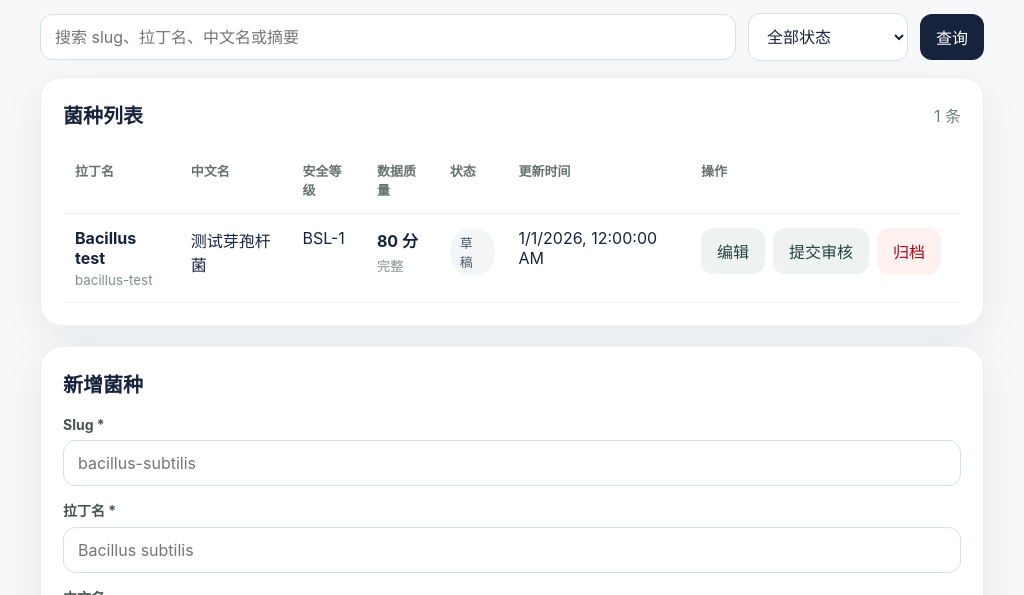
Test case: SpeciesManagement › 编辑菌种时加载并保存全部关联数据
Expected: the text "80 分" is shown, [377, 231, 418, 251]
Expected: the text "完整" is shown, [377, 258, 404, 274]
Step 1. Click the button "编辑" → (733, 251), box [701, 228, 765, 274]
(page scrolled)
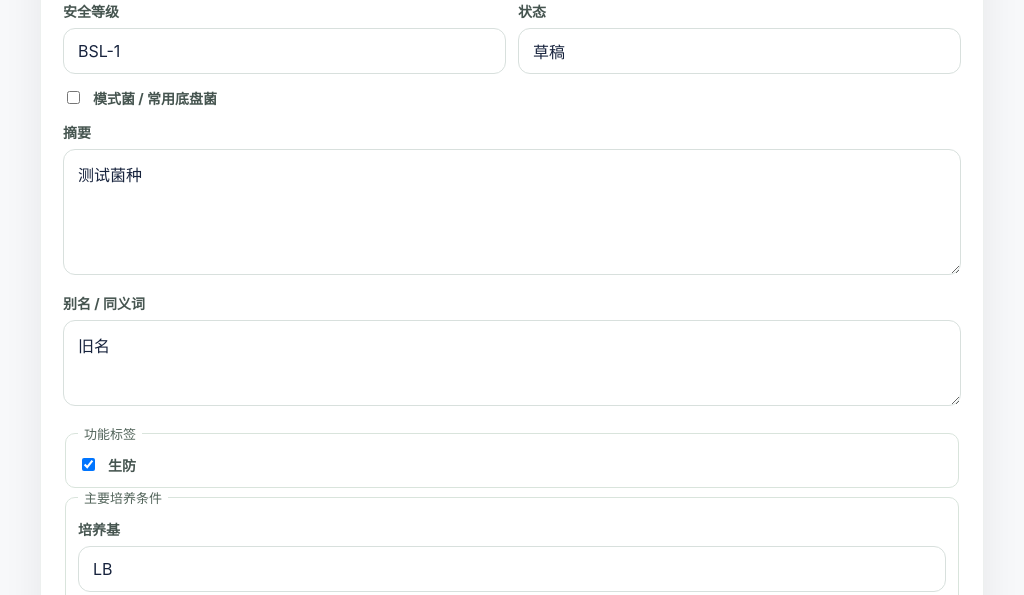
Expected: the text box showing "旧名" is shown, [63, 320, 961, 406]
Expected: the field showing "LB" is shown, [78, 546, 946, 592]
Step 2. Replace the text in the text box labelled "摘要" with "更新后的摘要" → (512, 212), box [63, 149, 961, 275]
(page scrolled)
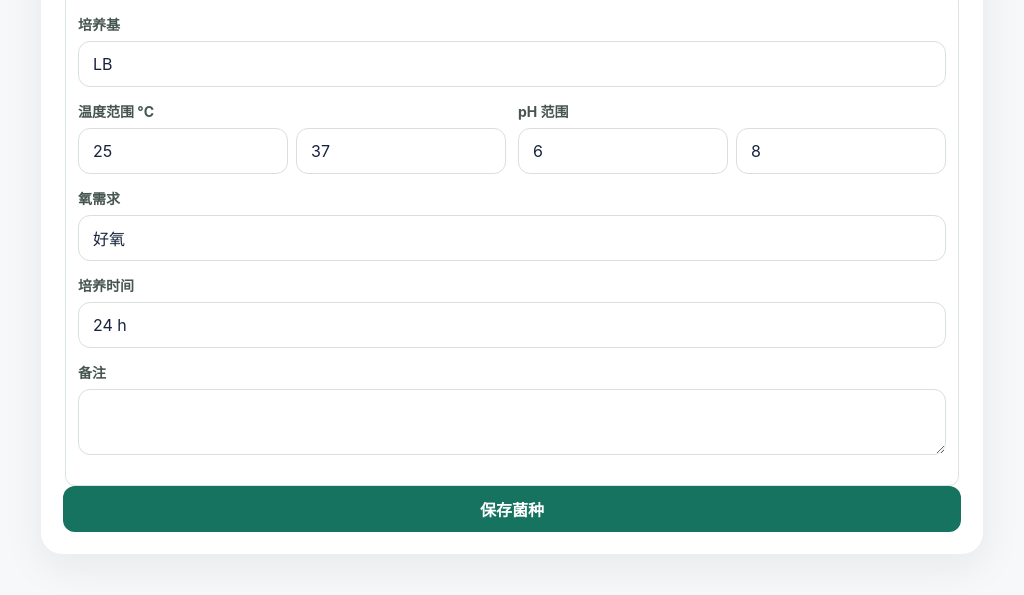
Step 3. Click the button "保存菌种" → (512, 509), box [63, 486, 961, 532]
(page scrolled)
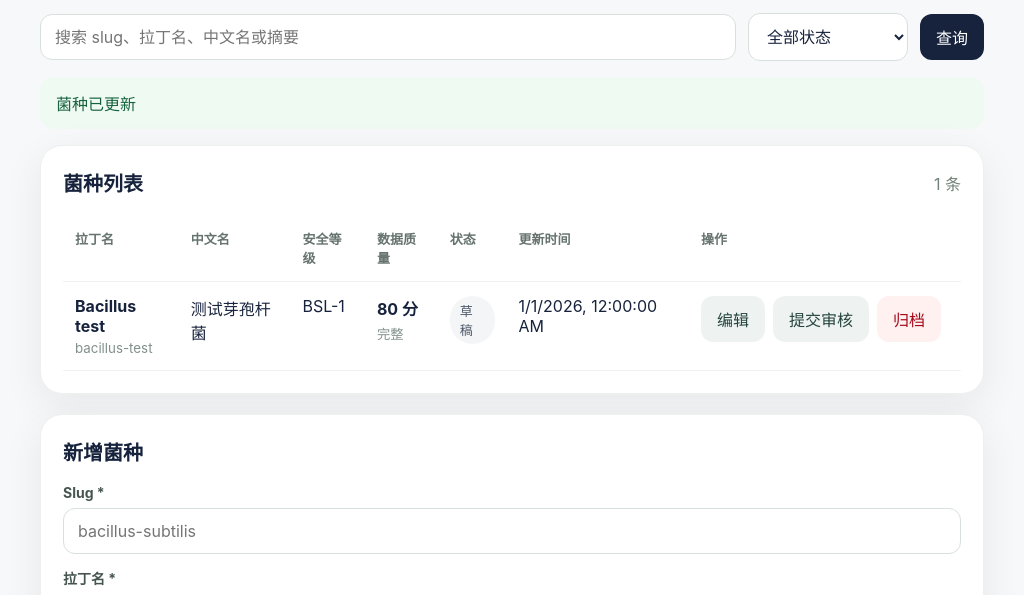
Expected: the text "菌种已更新" is shown, [40, 77, 984, 129]
